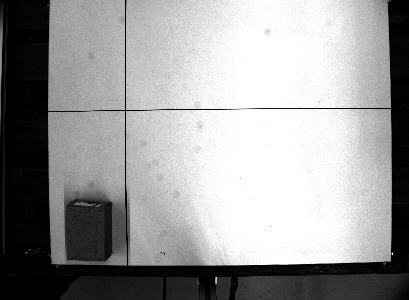b6: (61, 197, 115, 264)
